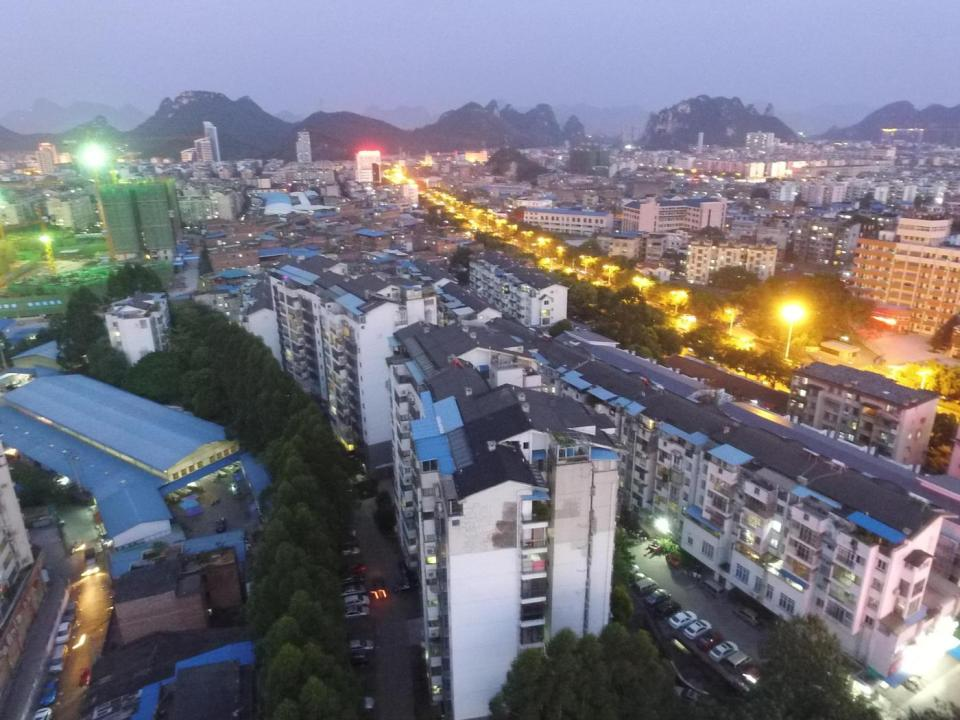car: (671, 684, 708, 706), (37, 675, 61, 707), (683, 618, 713, 640), (708, 640, 739, 661), (696, 632, 726, 653), (654, 600, 683, 620), (668, 611, 697, 630), (54, 620, 73, 644), (645, 589, 671, 606), (370, 576, 388, 599), (340, 572, 366, 586), (63, 601, 79, 622), (344, 606, 369, 619), (351, 640, 377, 652), (32, 707, 52, 720), (341, 586, 367, 596), (340, 546, 362, 557), (344, 563, 368, 573), (363, 696, 376, 712), (626, 561, 639, 576), (216, 517, 227, 534), (634, 572, 646, 581)
van: (732, 603, 762, 628), (48, 643, 70, 675), (700, 581, 726, 600), (84, 548, 100, 578), (725, 652, 751, 669), (633, 576, 659, 592), (344, 594, 370, 607)
